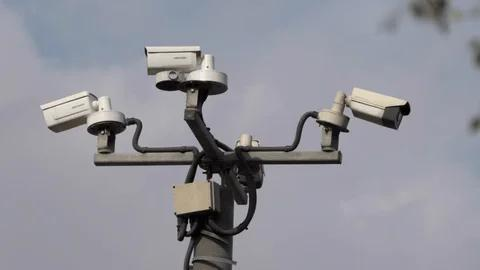------------------------------: (143, 44, 248, 98), (323, 85, 414, 136), (36, 90, 136, 136)
